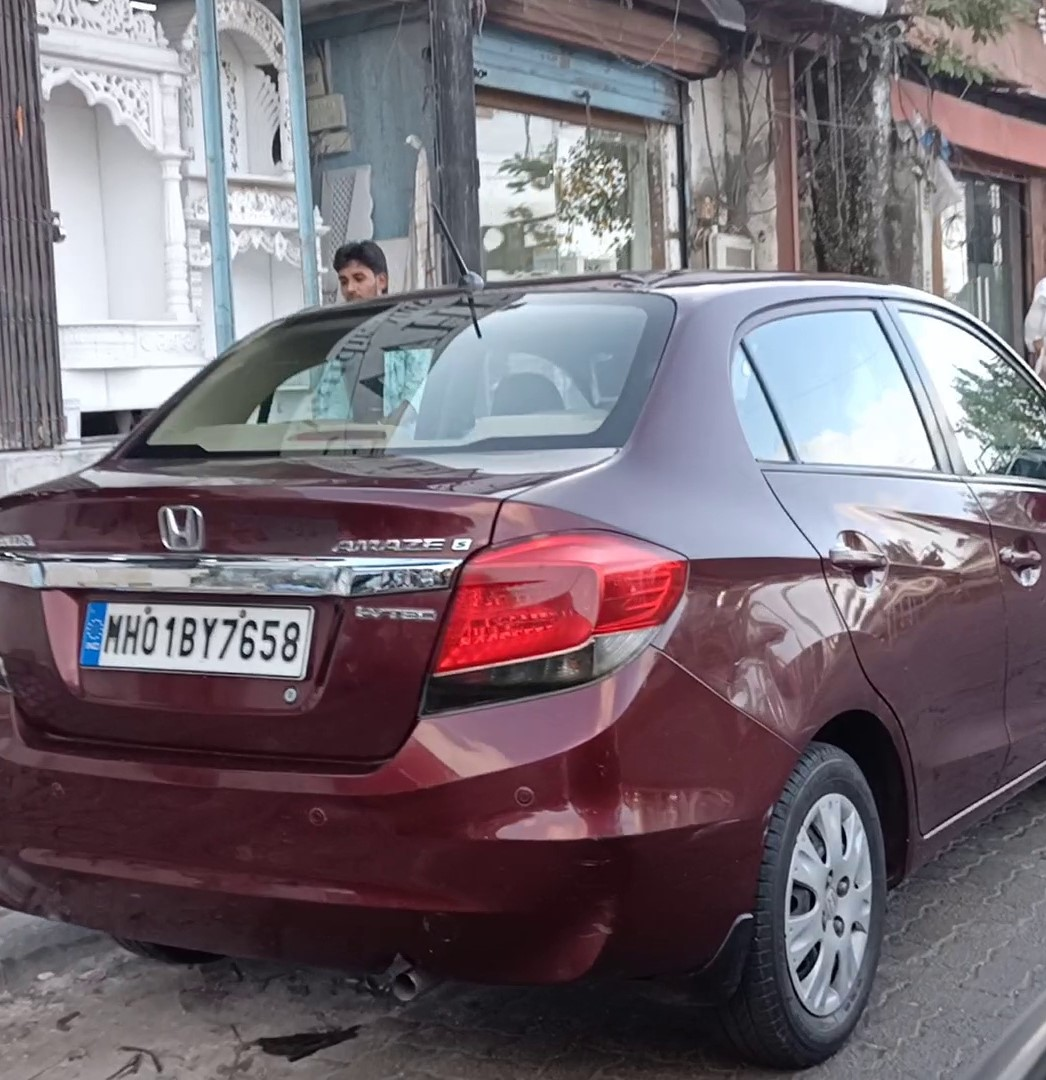MH01BY7658: (77, 600, 314, 678)
